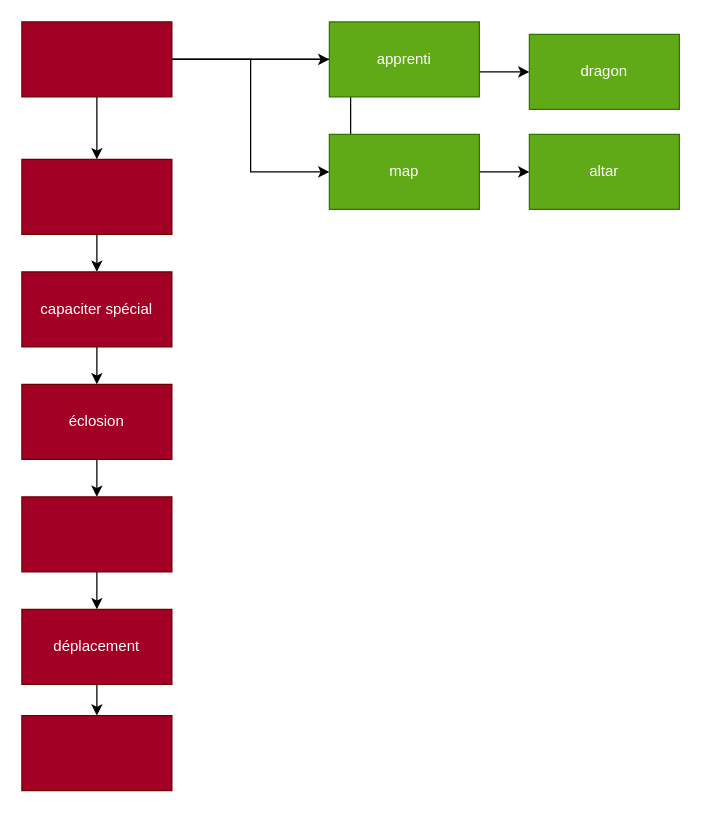
This 701x813 diagram has some shape labels left out. The shapes that lost their labels are listed below. From the top down, each one's centre as x and y in pixels, then its label:
At point (96, 59): "lire fichier.drk".
At point (96, 196): "creer le plateau".
At point (96, 534): "attack".
At point (96, 752): "régen".
